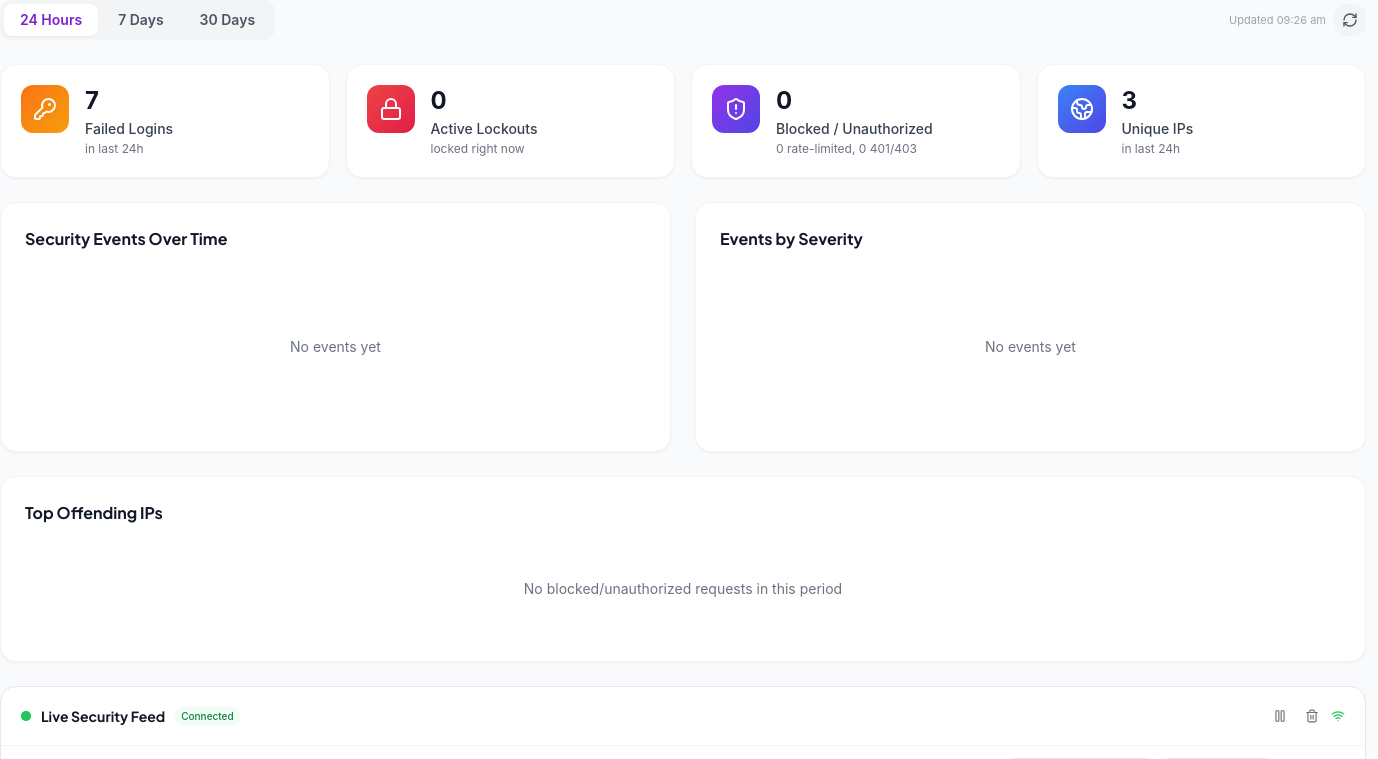
OverviewTab › does not leave the previous period's numbers on screen when the new period fails to load
Check: the text "Failed Logins" is shown, box [85,119,173,139]
Check: the text "7" is shown, box [85,86,99,115]
What coordinates should you click on to do the following:
click the button "7 Days"
I would click on:
 (141, 20)
Its box is [102,4,180,36].
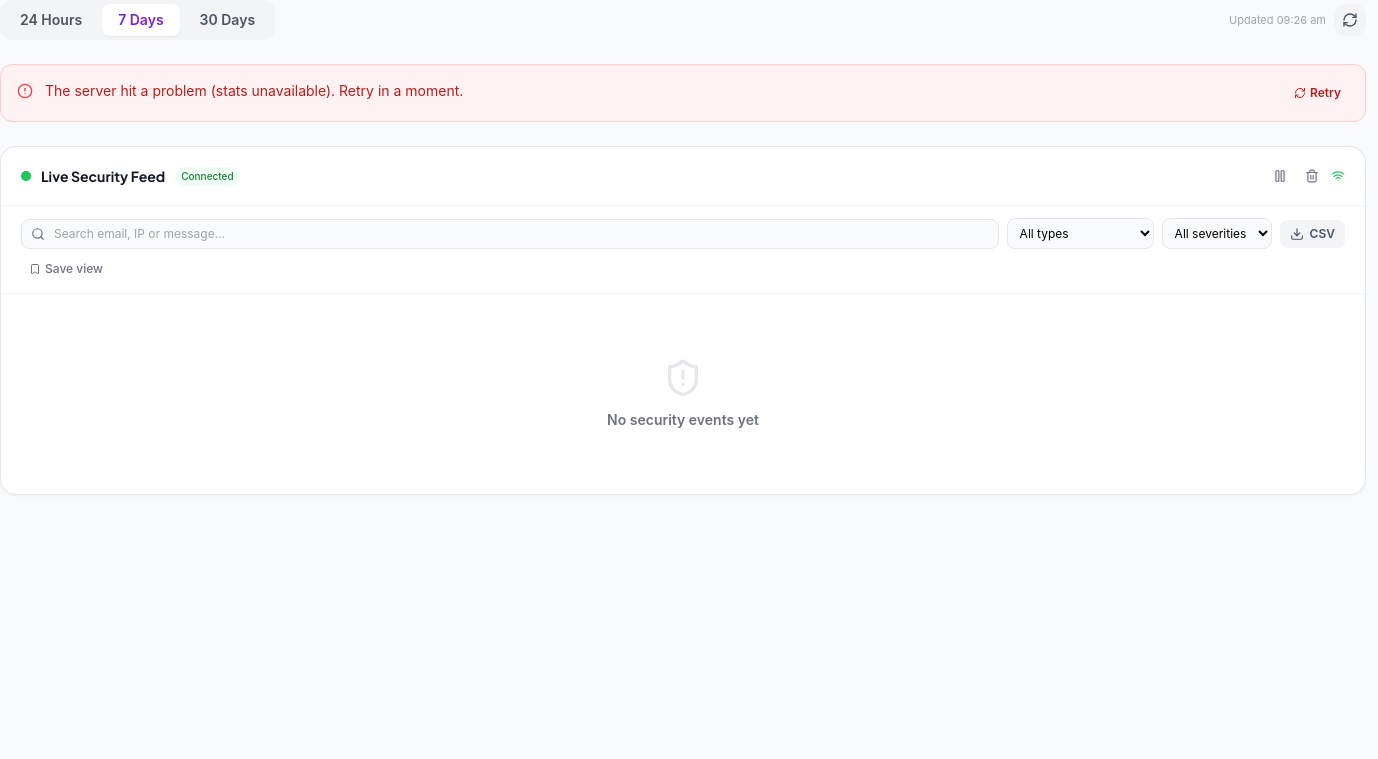
Check: the text "stats unavailable" is shown, box [45,82,463,99]
Check: the text "Failed Logins" is gone
